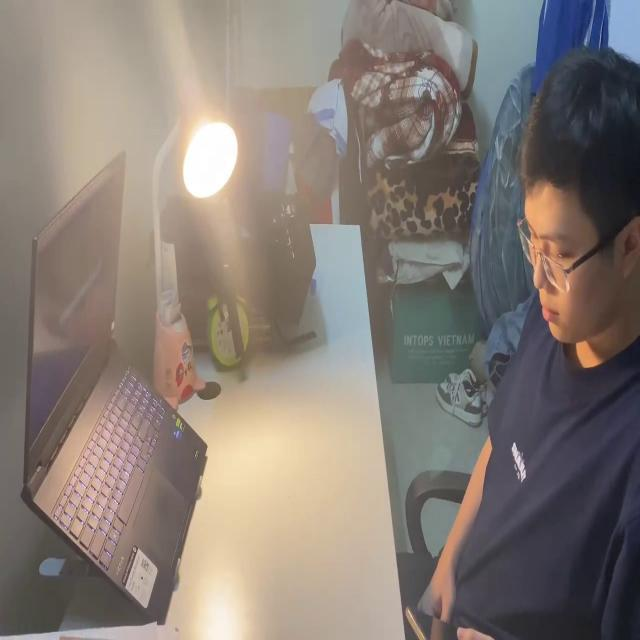laptop: (19, 144, 210, 624)
phone: (404, 600, 460, 640)
student: (394, 40, 640, 640)
